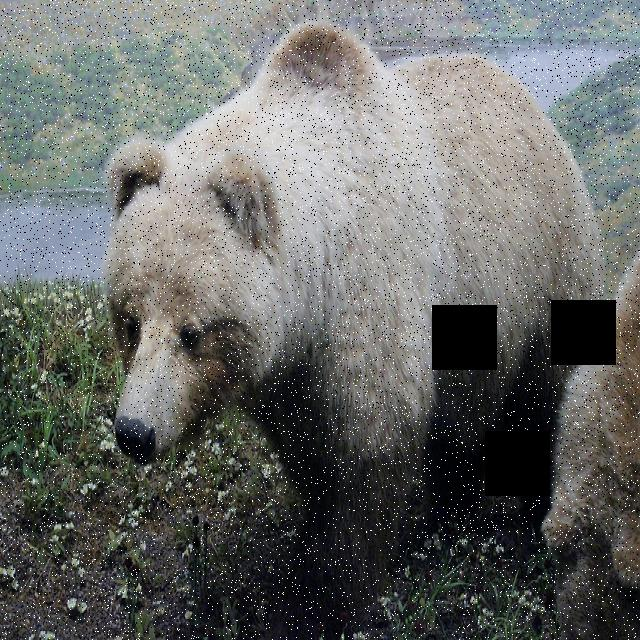Bear: (89, 18, 608, 588)
